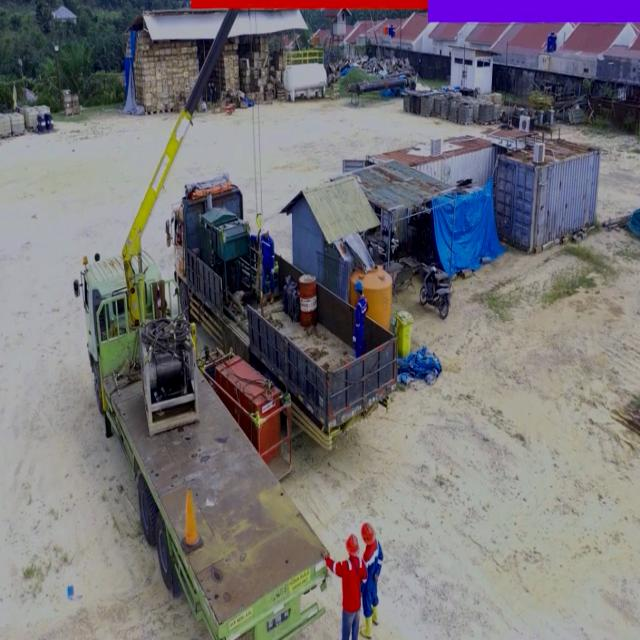Hardhat: (362, 521, 376, 546), (345, 535, 359, 556), (258, 221, 269, 239), (354, 277, 365, 292)
No Glove: (319, 546, 329, 561)
No Overall Suit: (327, 555, 368, 640), (352, 297, 368, 360), (260, 236, 275, 292)
Overall Suit: (362, 542, 384, 617)
Safety Boots: (361, 615, 374, 640), (260, 290, 268, 306), (373, 605, 379, 624), (269, 292, 276, 306)
